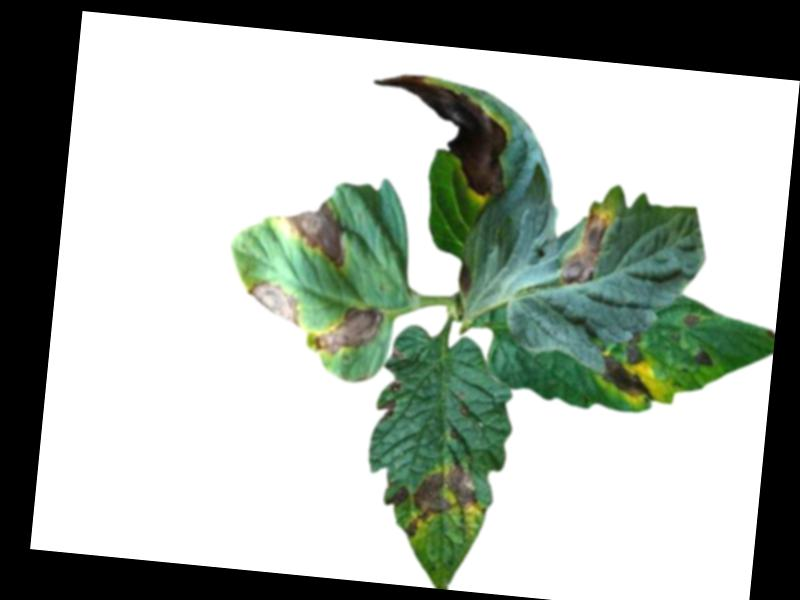Early_blight: (361, 70, 516, 198), (404, 456, 481, 541), (273, 195, 349, 267), (557, 199, 611, 287), (311, 300, 384, 359), (599, 352, 658, 400), (248, 281, 304, 327), (378, 378, 400, 423), (624, 330, 646, 367), (386, 483, 408, 508), (693, 348, 713, 366), (682, 310, 698, 325)
